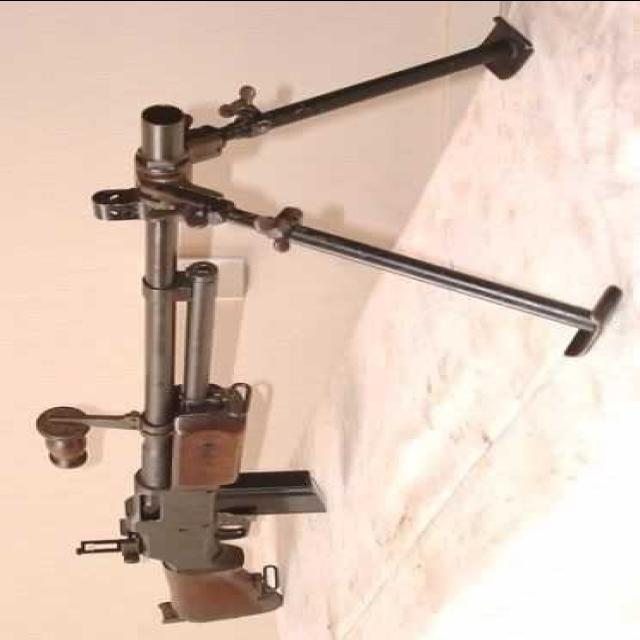heavyweapon: (17, 71, 368, 624)
